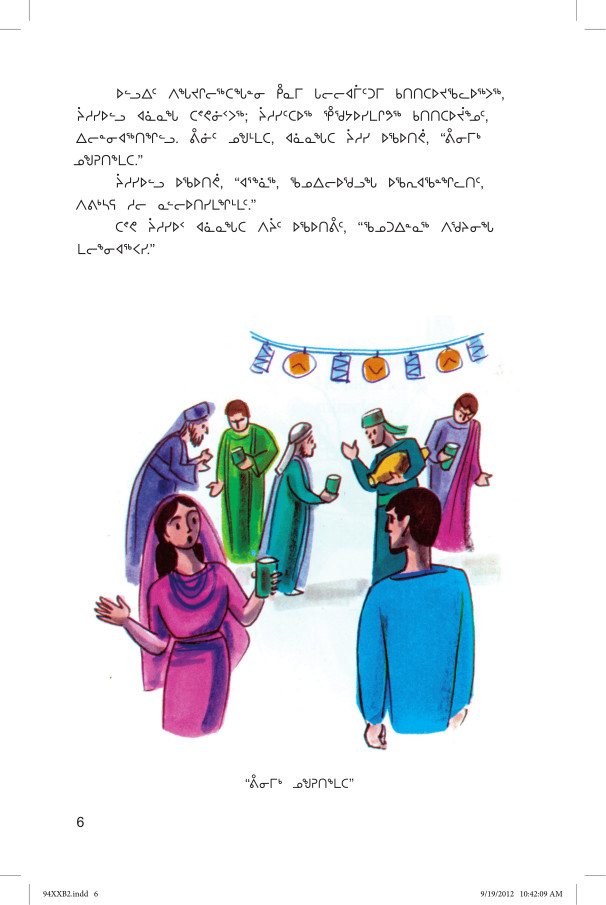inuktitut: (66, 79, 510, 262), (235, 766, 356, 796)
